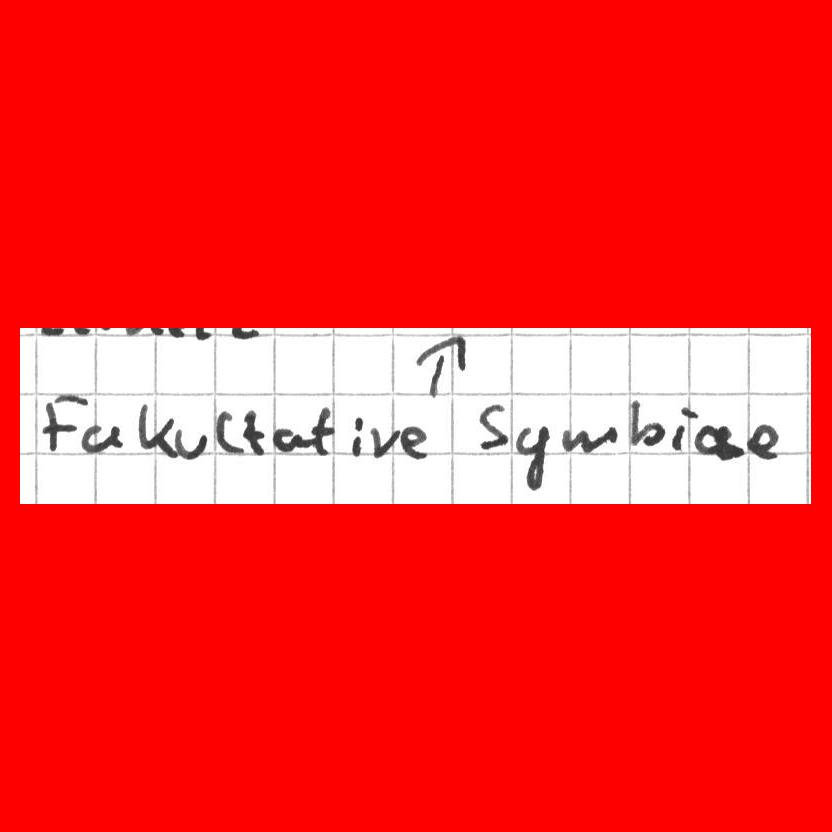Char: (410, 333, 471, 402), (40, 389, 88, 460), (513, 421, 551, 493), (694, 416, 745, 462), (136, 399, 174, 459), (557, 422, 620, 454), (625, 397, 664, 447), (745, 418, 788, 462), (475, 399, 510, 449), (309, 402, 337, 459), (78, 420, 125, 453), (211, 407, 242, 457), (241, 405, 270, 458), (670, 401, 696, 455), (170, 426, 209, 459), (399, 419, 426, 461), (272, 423, 307, 455), (369, 425, 400, 458), (346, 413, 366, 457)
